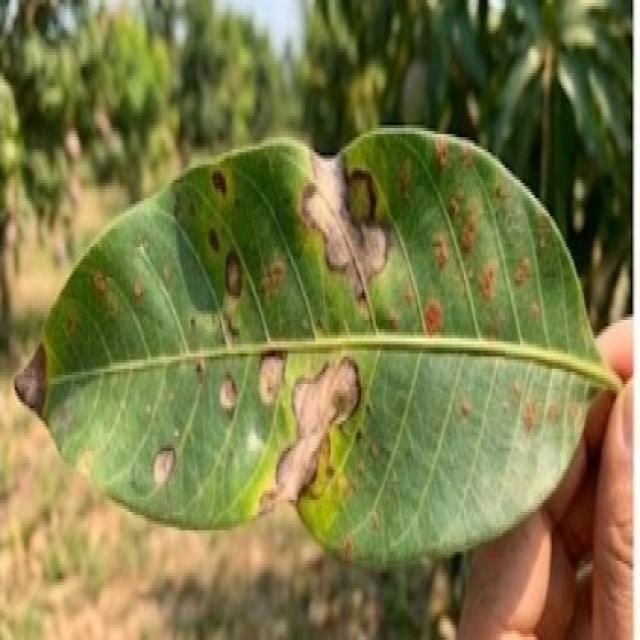Anthracnose: (225, 255, 242, 298), (211, 170, 228, 191)
Bacterial Cancer: (14, 342, 42, 415), (296, 387, 345, 421), (257, 479, 303, 515), (317, 187, 346, 243), (261, 354, 280, 404)
Powdery Mildew: (152, 455, 176, 482)
